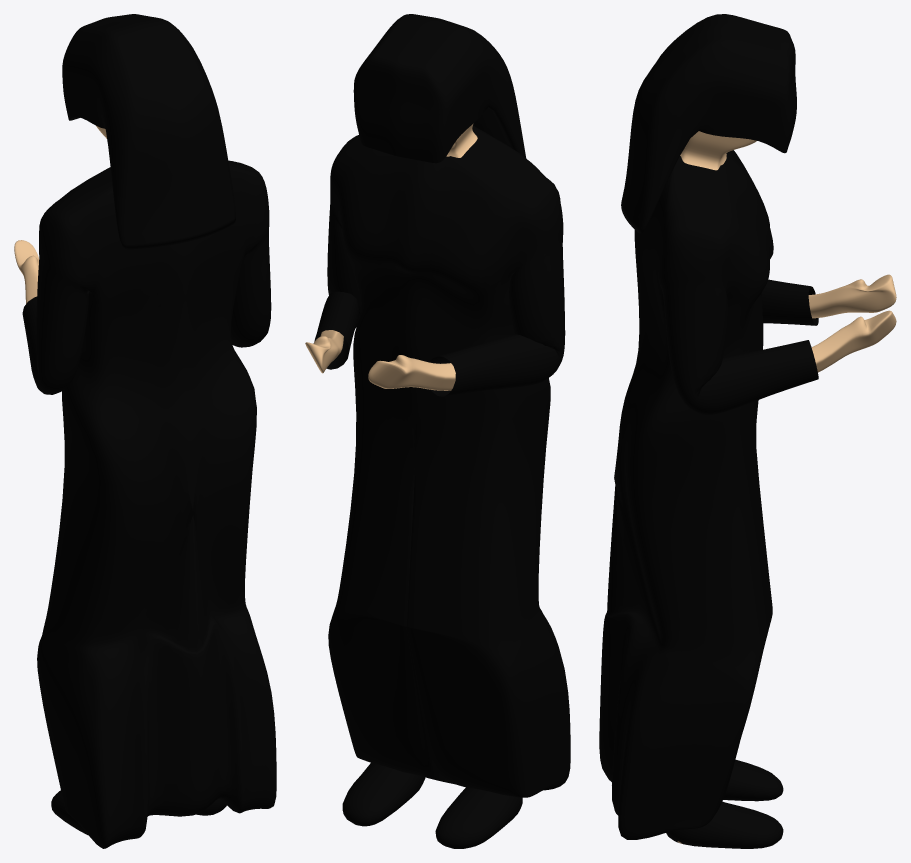
Rendered from widow_model.glb.
3 renders of one model, left to right at view 1: azimuth 30°, elevation 25°; view 2: azimuth 150°, elevation 25°; view 3: azimuth 270°, elevation 25°, orthographic.
Parts seen in each view (by area): view 1: dress, mask, original model, shoes; view 2: dress, mask, shoes, original model; view 3: dress, mask, original model, shoes.
Part boxes in pixels (x1,y1,x2,y2): dress: (22,160,276,848); mask: (62,14,235,249); original model: (14,126,106,303); shoes: (51,790,226,834); dress: (314,125,570,797); mask: (353,14,526,163); shoes: (342,763,522,848); original model: (305,123,477,390); dress: (599,150,818,839); mask: (621,14,796,233); original model: (677,131,896,843); shoes: (666,759,783,848).
Bounding box in the file's own units: 377 × 1239 × 420.
